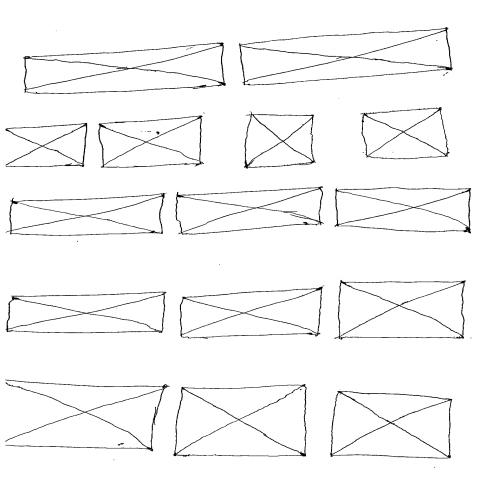Image: (238, 26, 454, 86), (23, 41, 226, 94), (171, 383, 308, 459), (326, 390, 452, 460), (336, 279, 468, 341), (178, 287, 324, 339), (174, 186, 324, 235), (4, 290, 167, 334), (6, 192, 164, 236), (332, 187, 473, 234), (96, 114, 202, 169), (362, 107, 450, 160), (242, 112, 317, 168)
